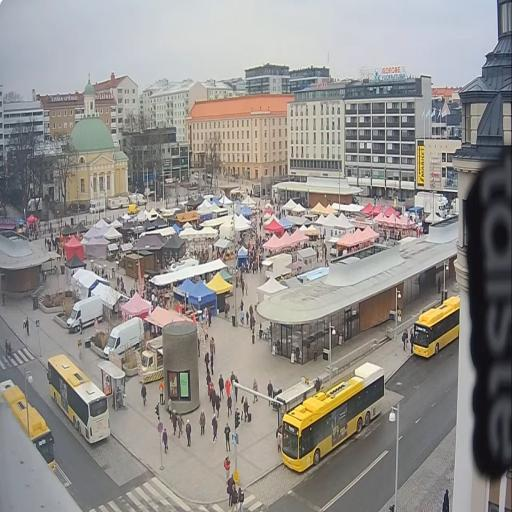bus: (281, 363, 384, 472), (47, 355, 110, 443), (0, 380, 55, 472), (414, 296, 460, 357)
delivery: (104, 317, 144, 359), (67, 296, 103, 332), (138, 336, 163, 383)
